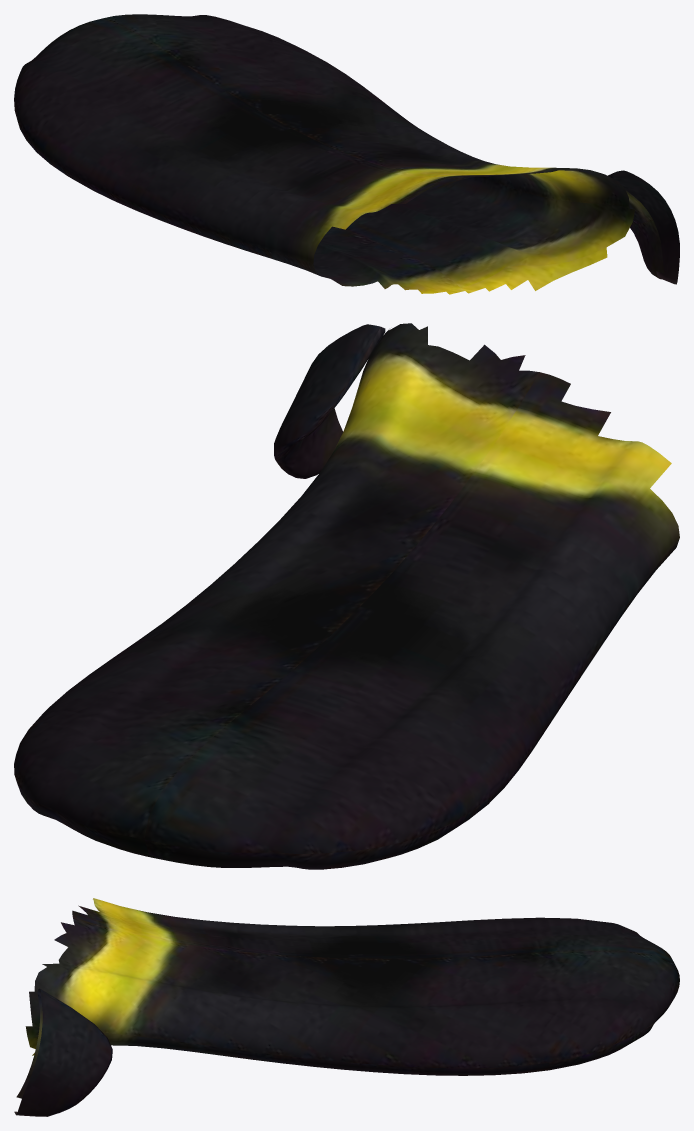
File: tucantail.obj
3 views of the same model, one above another, from view 1: azimuth 30°, elevation 25°; view 2: azimuth 150°, elevation 25°; view 3: azimuth 270°, elevation 25° (orthographic). The views are drawn at different scales.
Visible parts, largest first — view 1: 12260_Bird_Toucan_v3_l2.001; view 2: 12260_Bird_Toucan_v3_l2.001; view 3: 12260_Bird_Toucan_v3_l2.001.
Part boxes in pixels (<box>): 12260_Bird_Toucan_v3_l2.001: <box>14,14,679,294</box>; 12260_Bird_Toucan_v3_l2.001: <box>14,323,679,869</box>; 12260_Bird_Toucan_v3_l2.001: <box>14,898,679,1116</box>.
Bounding box in the file's own units: 0.9374 × 0.3171 × 1.58.
